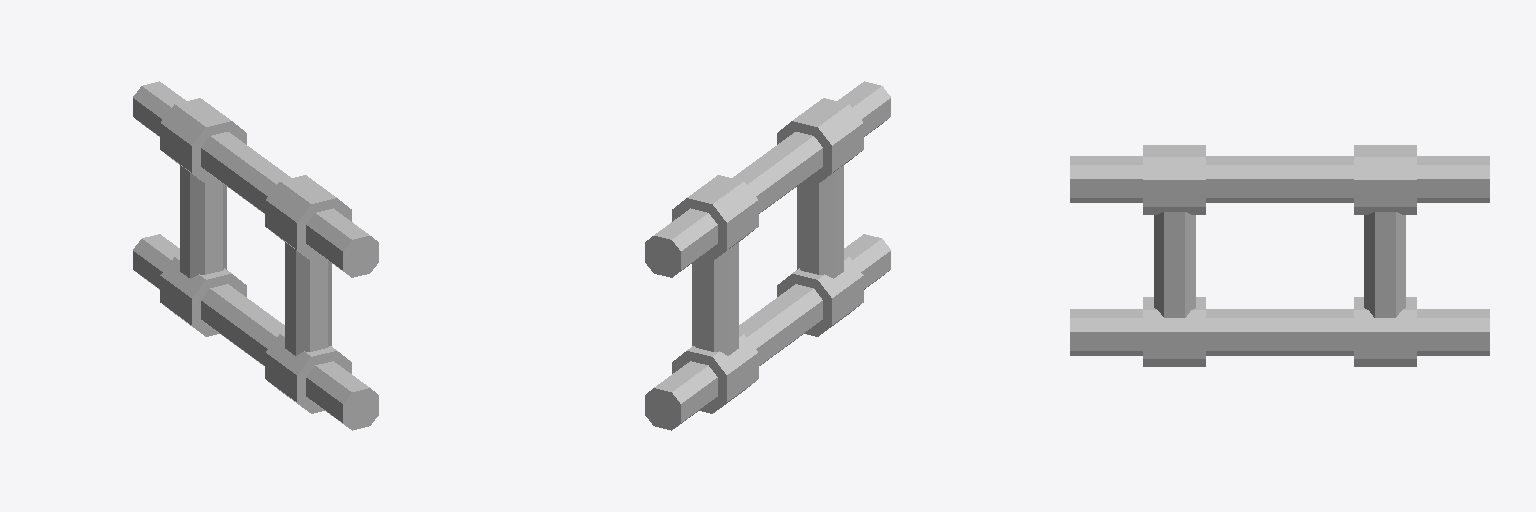
The model's file is ladder-color.obj.
3 renders of one model, left to right at view 1: azimuth 30°, elevation 25°; view 2: azimuth 150°, elevation 25°; view 3: azimuth 270°, elevation 25°, orthographic.
Parts seen in each view (by area): view 1: ladder-color.258; view 2: ladder-color.258; view 3: ladder-color.258.
Boxes of the visible parts, <box> form: ladder-color.258: <box>133,81,378,430</box>; ladder-color.258: <box>645,81,890,430</box>; ladder-color.258: <box>1070,145,1489,366</box>.
Size of the model in its own units: 0.15 by 0.55 by 1.